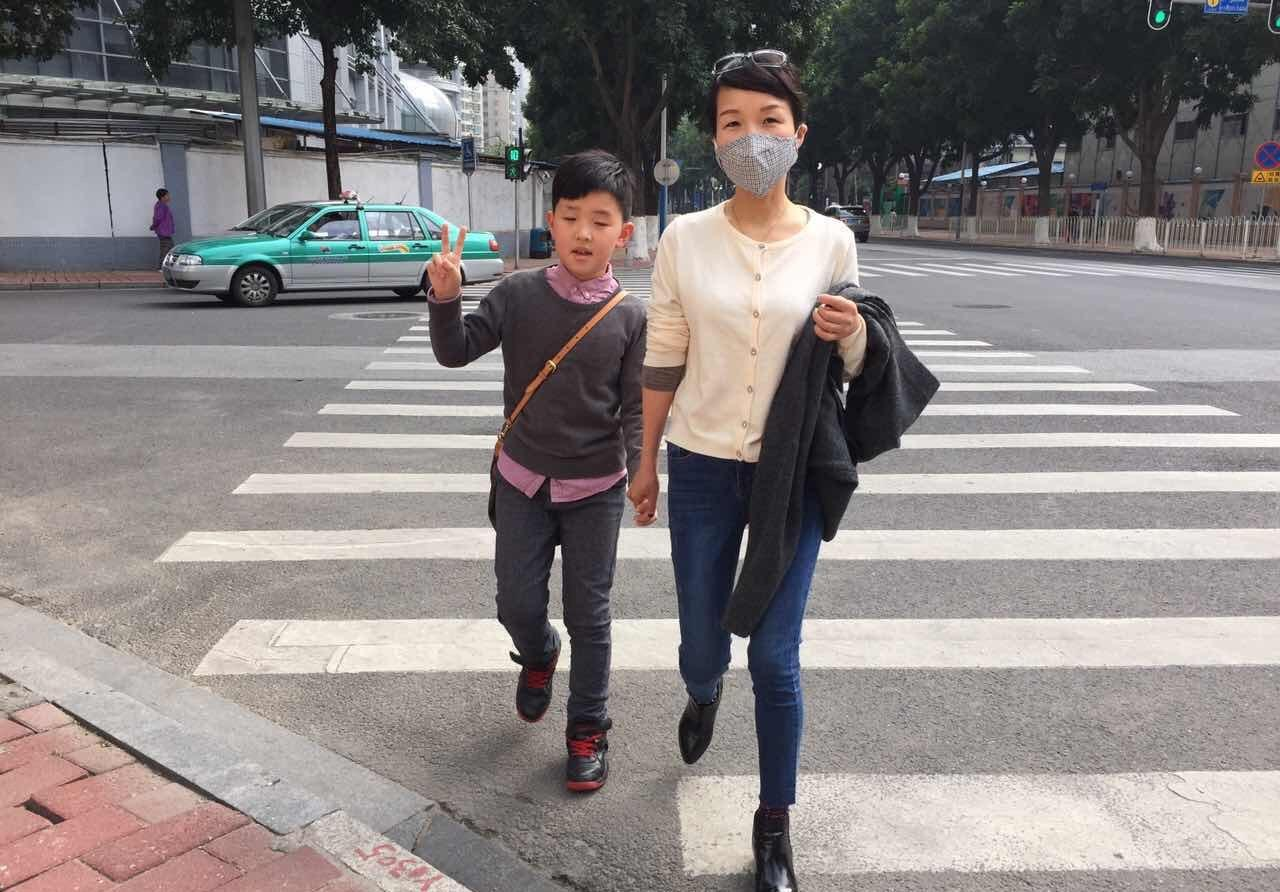NONE: (553, 195, 620, 279)
OK: (708, 95, 810, 197)
